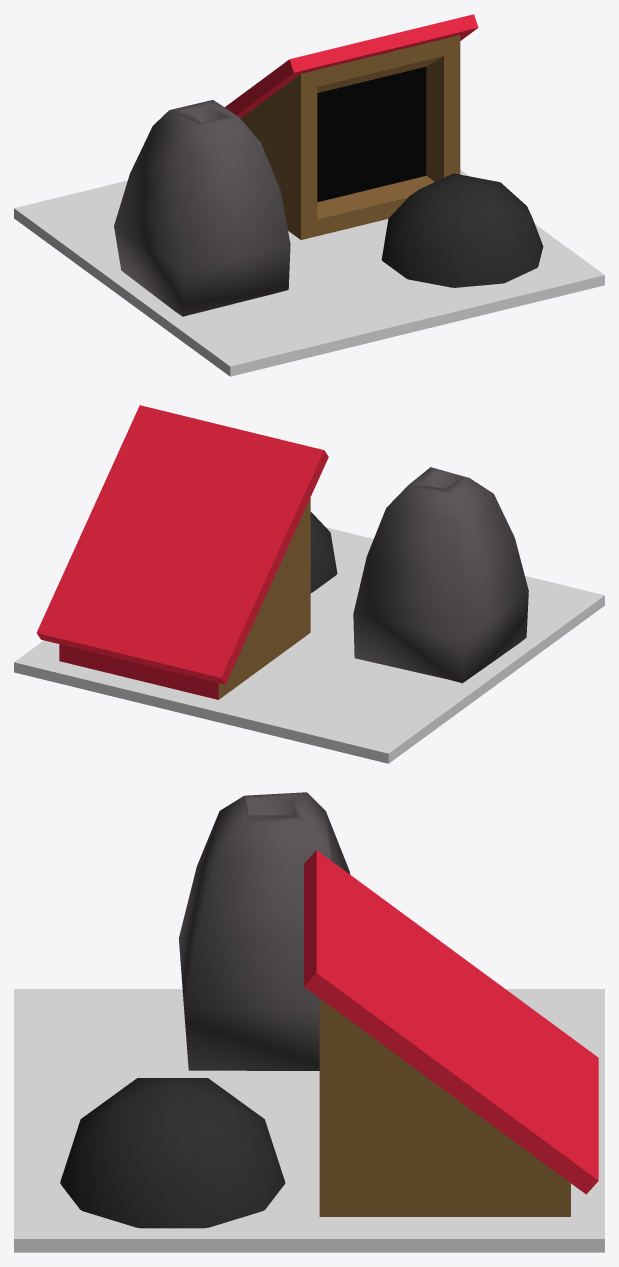
File: CoalHouse.fbx
3 views of the same model, one above another, from view 1: azimuth 30°, elevation 25°; view 2: azimuth 150°, elevation 25°; view 3: azimuth 270°, elevation 25° (orthographic). The views are drawn at different scales.
Visible parts, largest first — view 1: Platform, Cube.001, Cube, Coal; view 2: Cube.001, Platform, Cube, Coal; view 3: Cube.001, Platform, Cube, Coal.
Boxes of the visible parts, x1,y1,x2,y2 form: Platform: (14, 169, 604, 376); Cube.001: (225, 14, 478, 239); Cube: (114, 100, 290, 316); Coal: (381, 173, 543, 287); Cube.001: (36, 405, 328, 699); Platform: (14, 527, 604, 763); Cube: (353, 467, 528, 683); Coal: (310, 512, 337, 592); Cube.001: (304, 850, 598, 1216); Platform: (14, 989, 604, 1252); Cube: (178, 792, 350, 1070); Coal: (60, 1078, 285, 1228).
Bounding box in the file's own units: 2421 × 1204 × 2421.
